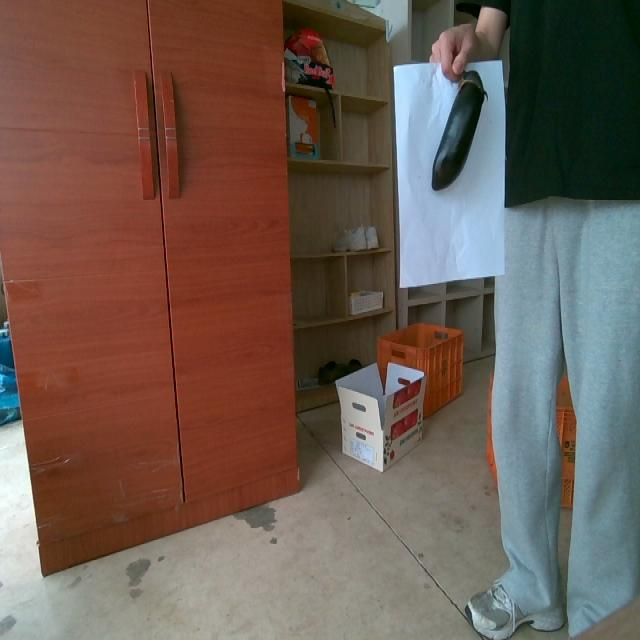Egg plant: (432, 71, 486, 189)
